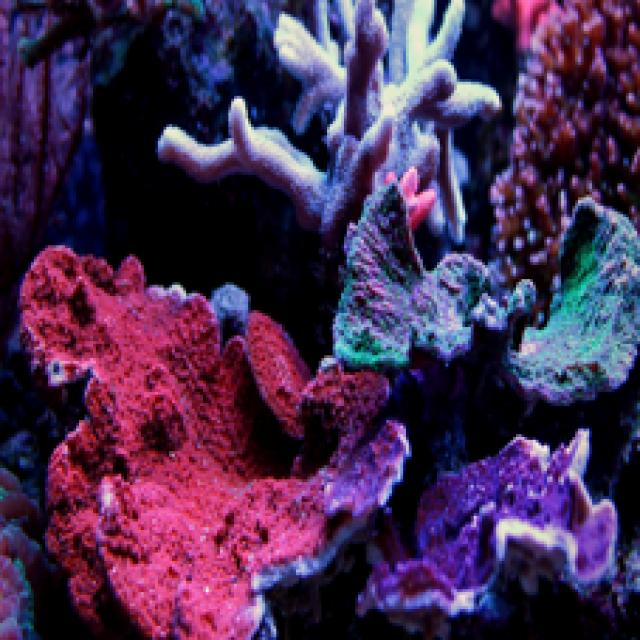Healthy: (21, 246, 407, 638), (159, 1, 500, 258), (359, 432, 616, 630), (492, 1, 638, 280), (334, 184, 528, 368), (508, 198, 638, 404)
